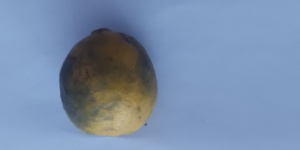BAD: (57, 25, 158, 137)
